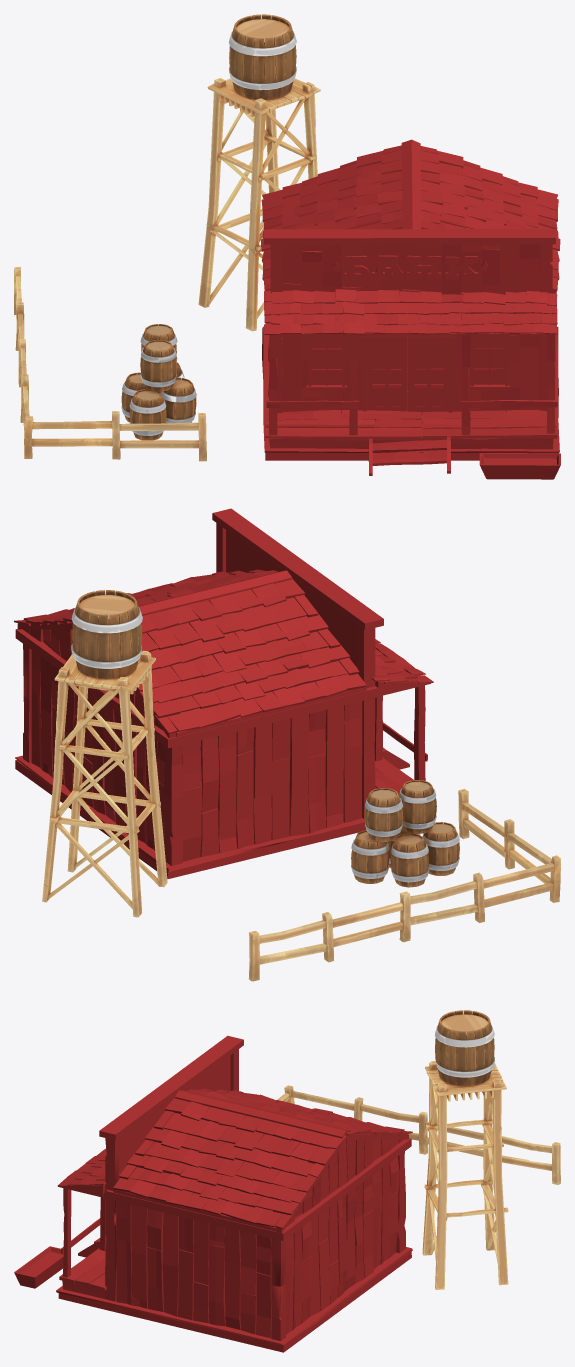
File: wild_west_bank.glb
3 renders of one model, top to bottom at view 1: azimuth 30°, elevation 25°; view 2: azimuth 150°, elevation 25°; view 3: azimuth 270°, elevation 25°, orthographic. The views are drawn at different scales.
Parts seen in each view (by area): view 1: bank_Baked, bank elements_Baked; view 2: bank_Baked, bank elements_Baked; view 3: bank_Baked, bank elements_Baked.
Part boxes in pixels (left/top/right/bottom): bank_Baked: left=261, top=139, right=560, bottom=479; bank elements_Baked: left=14, top=14, right=320, bottom=461; bank_Baked: left=14, top=508, right=433, bottom=878; bank elements_Baked: left=42, top=590, right=560, bottom=981; bank_Baked: left=14, top=1035, right=412, bottom=1352; bank elements_Baked: left=277, top=1010, right=560, bottom=1289.
Size of the model in its own units: 13.59 by 6.91 by 13.71.
2 materials, 1 textured.
